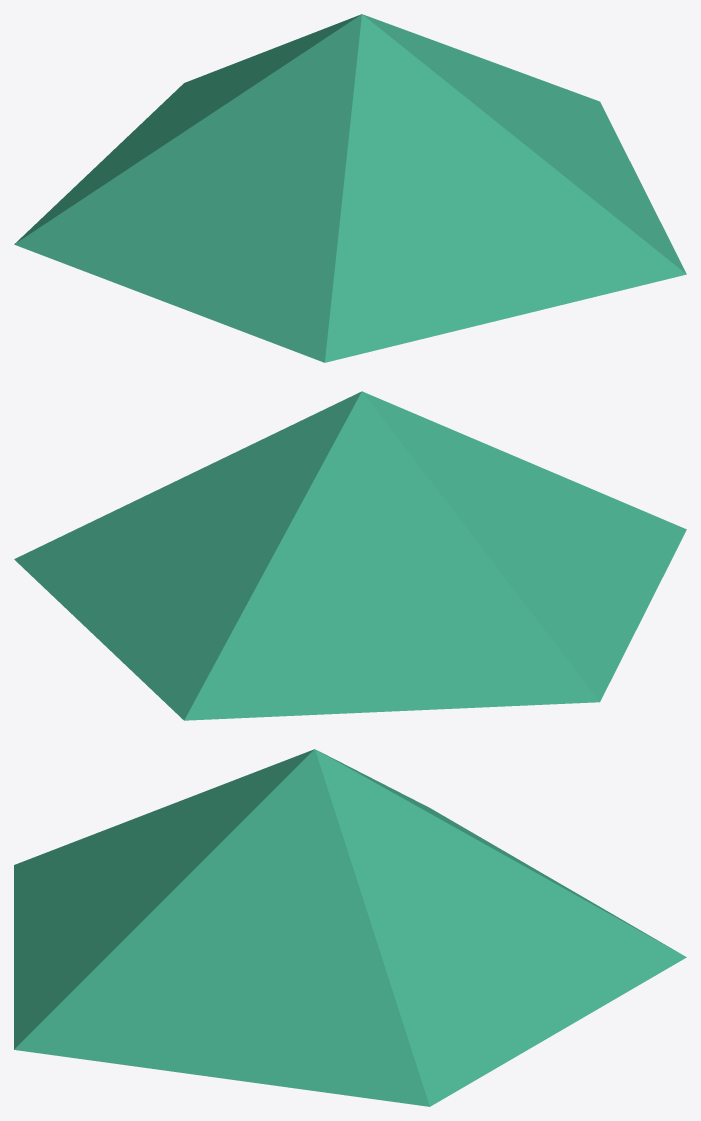
The model's file is J2.PiramidePentagonal.gltf.
3 renders of one model, top to bottom at view 1: azimuth 30°, elevation 25°; view 2: azimuth 150°, elevation 25°; view 3: azimuth 270°, elevation 25°, orthographic. The views are drawn at different scales.
Parts seen in each view (by area): view 1: J2.PiramidePentagonal; view 2: J2.PiramidePentagonal; view 3: J2.PiramidePentagonal.
Boxes of the visible parts, left/top/right/bottom form: J2.PiramidePentagonal: left=14, top=14, right=686, bottom=362; J2.PiramidePentagonal: left=14, top=391, right=686, bottom=720; J2.PiramidePentagonal: left=14, top=749, right=686, bottom=1106.
Bounding box in the file's own units: 17.01 × 5.53 × 16.18.
